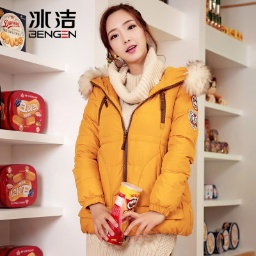face: (92, 5, 158, 64)
